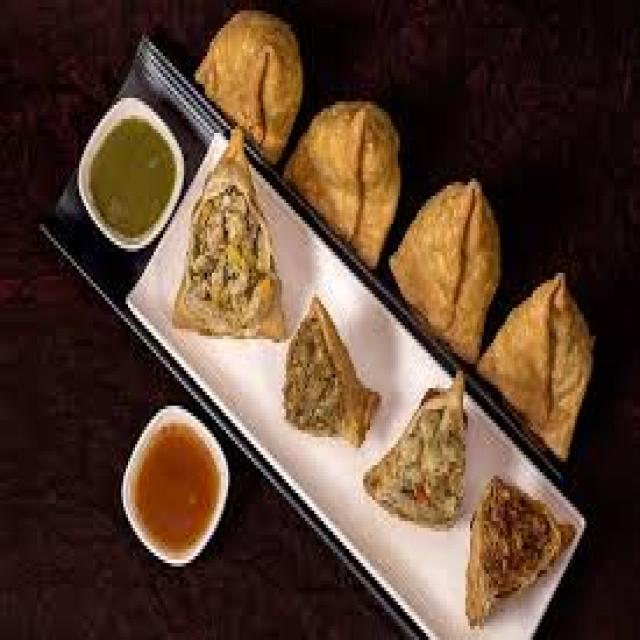SAMOSA: (175, 129, 284, 332), (477, 273, 593, 458), (389, 178, 498, 360), (286, 101, 398, 266), (195, 10, 303, 157), (470, 479, 570, 623), (365, 381, 463, 525), (284, 297, 377, 444)
